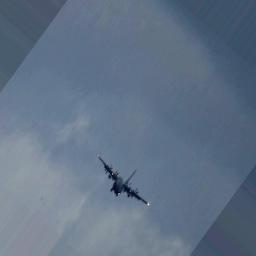Airplane: (97, 155, 151, 208)
